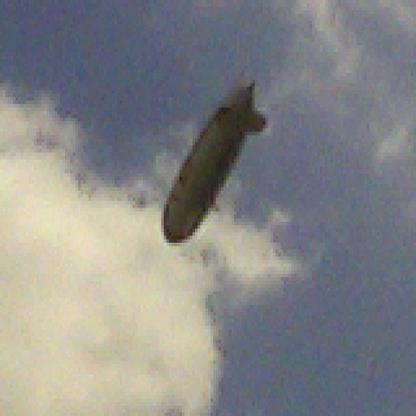Airship: (159, 77, 271, 247)
